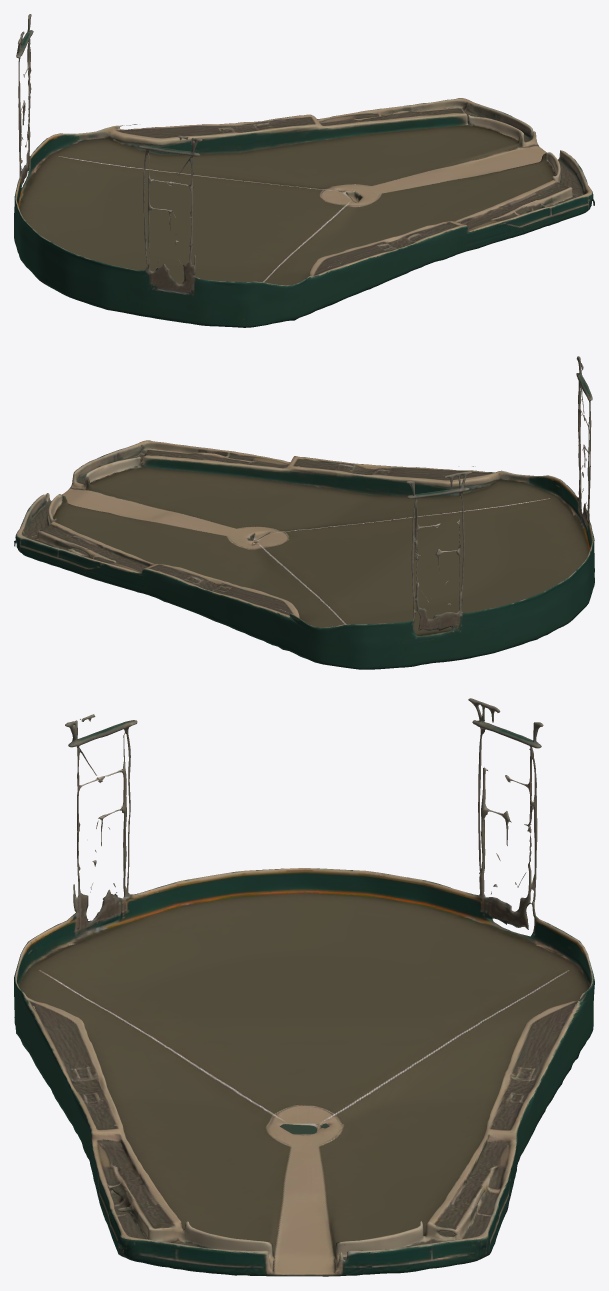
Rendered from baseball_park_environment_model_fbx.fbx.
3 renders of one model, top to bottom at view 1: azimuth 30°, elevation 25°; view 2: azimuth 150°, elevation 25°; view 3: azimuth 270°, elevation 25°, orthographic. The views are drawn at different scales.
Parts seen in each view (by area): view 1: mesh_777a; view 2: mesh_777a; view 3: mesh_777a.
Part boxes in pixels (x1,y1,x2,y2): mesh_777a: (14, 14, 594, 327); mesh_777a: (14, 356, 594, 669); mesh_777a: (14, 698, 594, 1276).
Bounding box in the file's own units: 3.44 × 1.2 × 2.44.
1 material, 1 textured.
